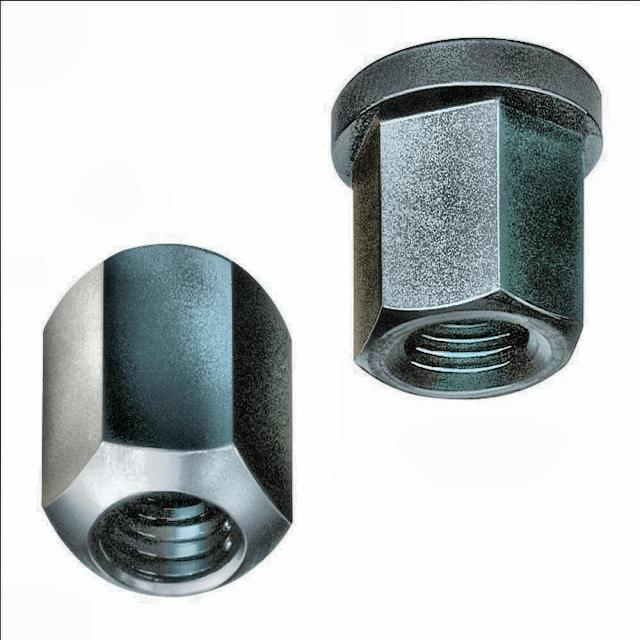Nut Detection - v1 Nut Dataset: (326, 32, 622, 420), (31, 234, 296, 605)
